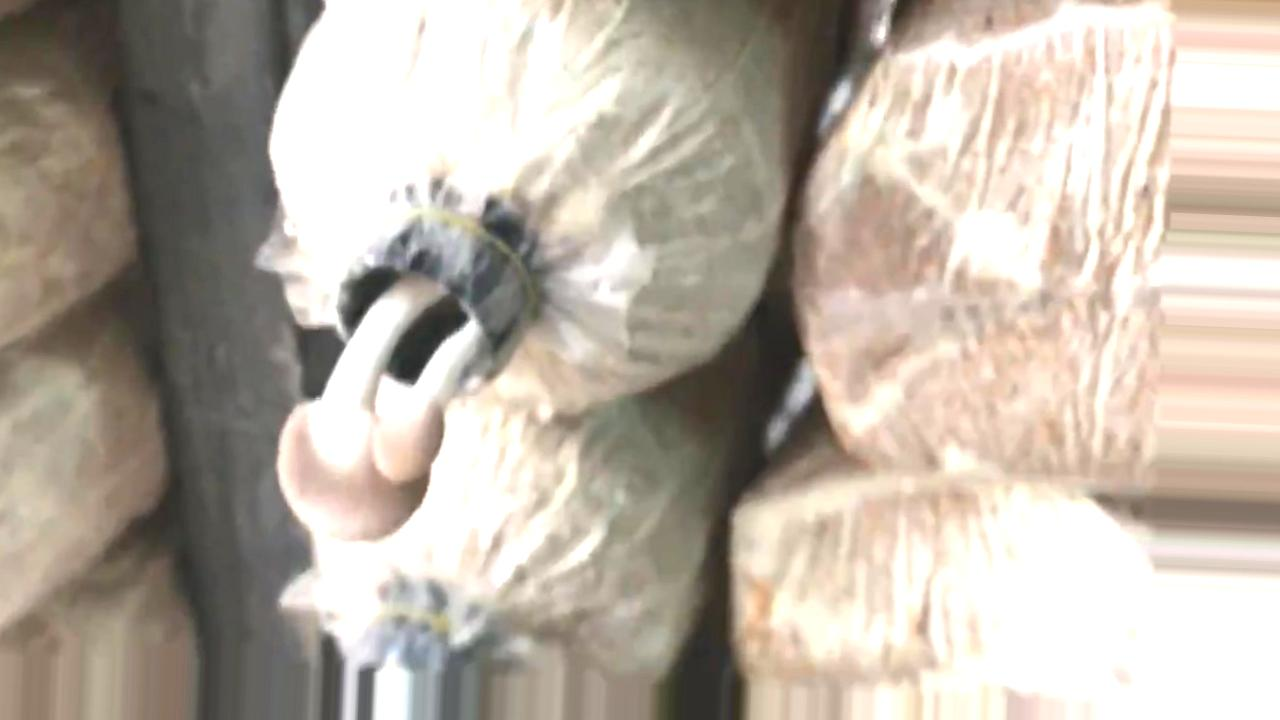nam: (275, 214, 523, 539)
